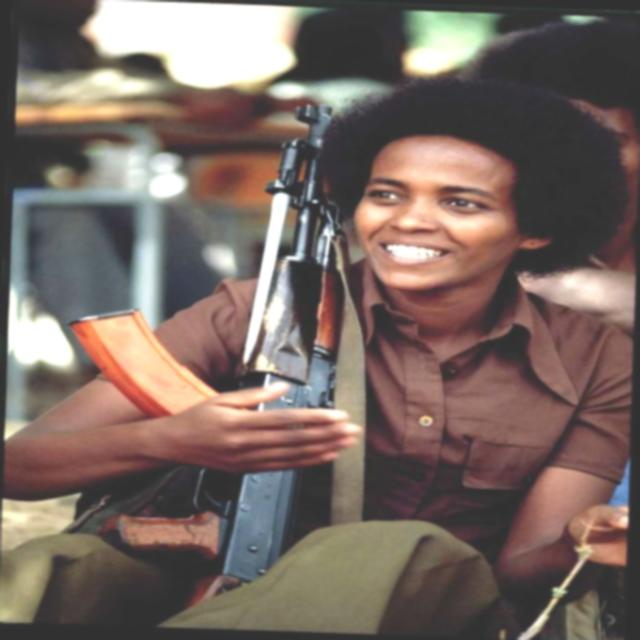ak: (61, 89, 350, 593)
